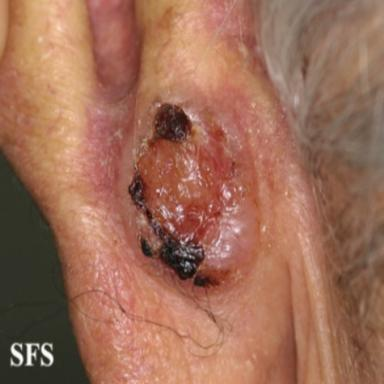basal-cell-carcinoma: (124, 96, 258, 295)
